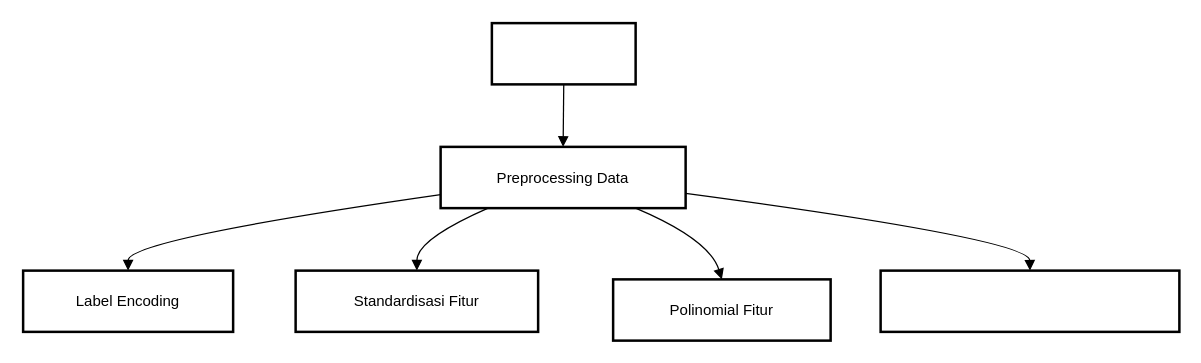
Image size: 1201x363. Some labels were removed from this diagram. Here are the shapes that lost their labels. From the top down, the centre of each, then its label:
(563,53): Dataset
(1029,300): SMOTE untuk Resampling
